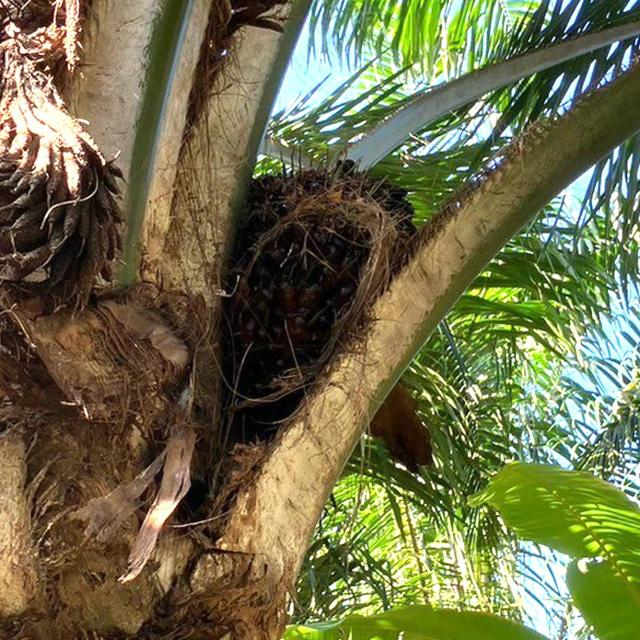ripe: (243, 161, 412, 387)
